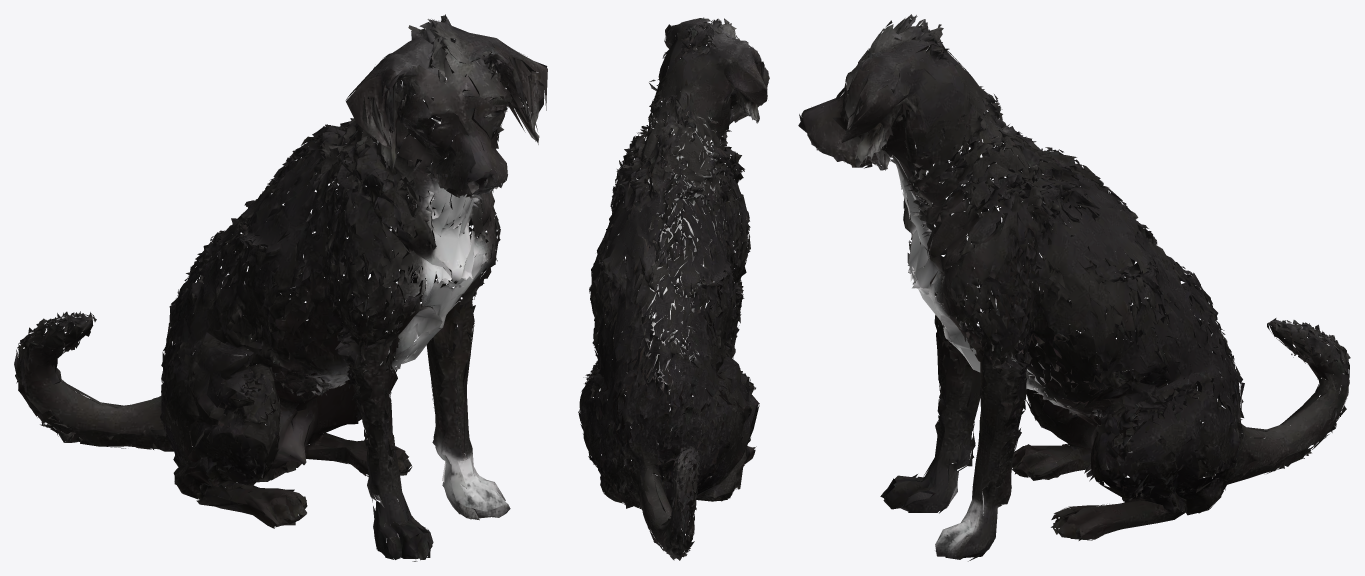
The model's file is Patty_Seated_3D.glb.
3 views of the same model, side by side, from view 1: azimuth 30°, elevation 25°; view 2: azimuth 150°, elevation 25°; view 3: azimuth 270°, elevation 25° (orthographic). The views are drawn at different scales.
Visible parts, largest first — view 1: world; view 2: world; view 3: world.
Boxes of the visible parts, x1,y1,x2,y2 form: world: [14, 14, 547, 561]; world: [578, 17, 769, 560]; world: [798, 14, 1350, 561].
Size of the model in its own units: 0.5572 by 0.9917 by 0.9686.
1 material, 1 textured.
